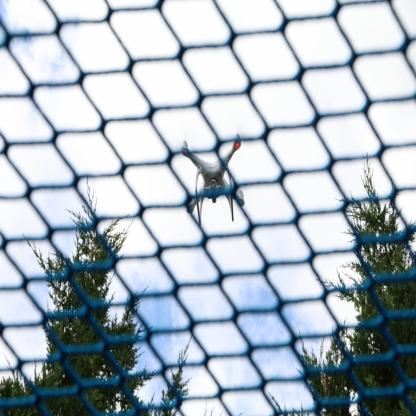drone: (169, 128, 257, 218)
